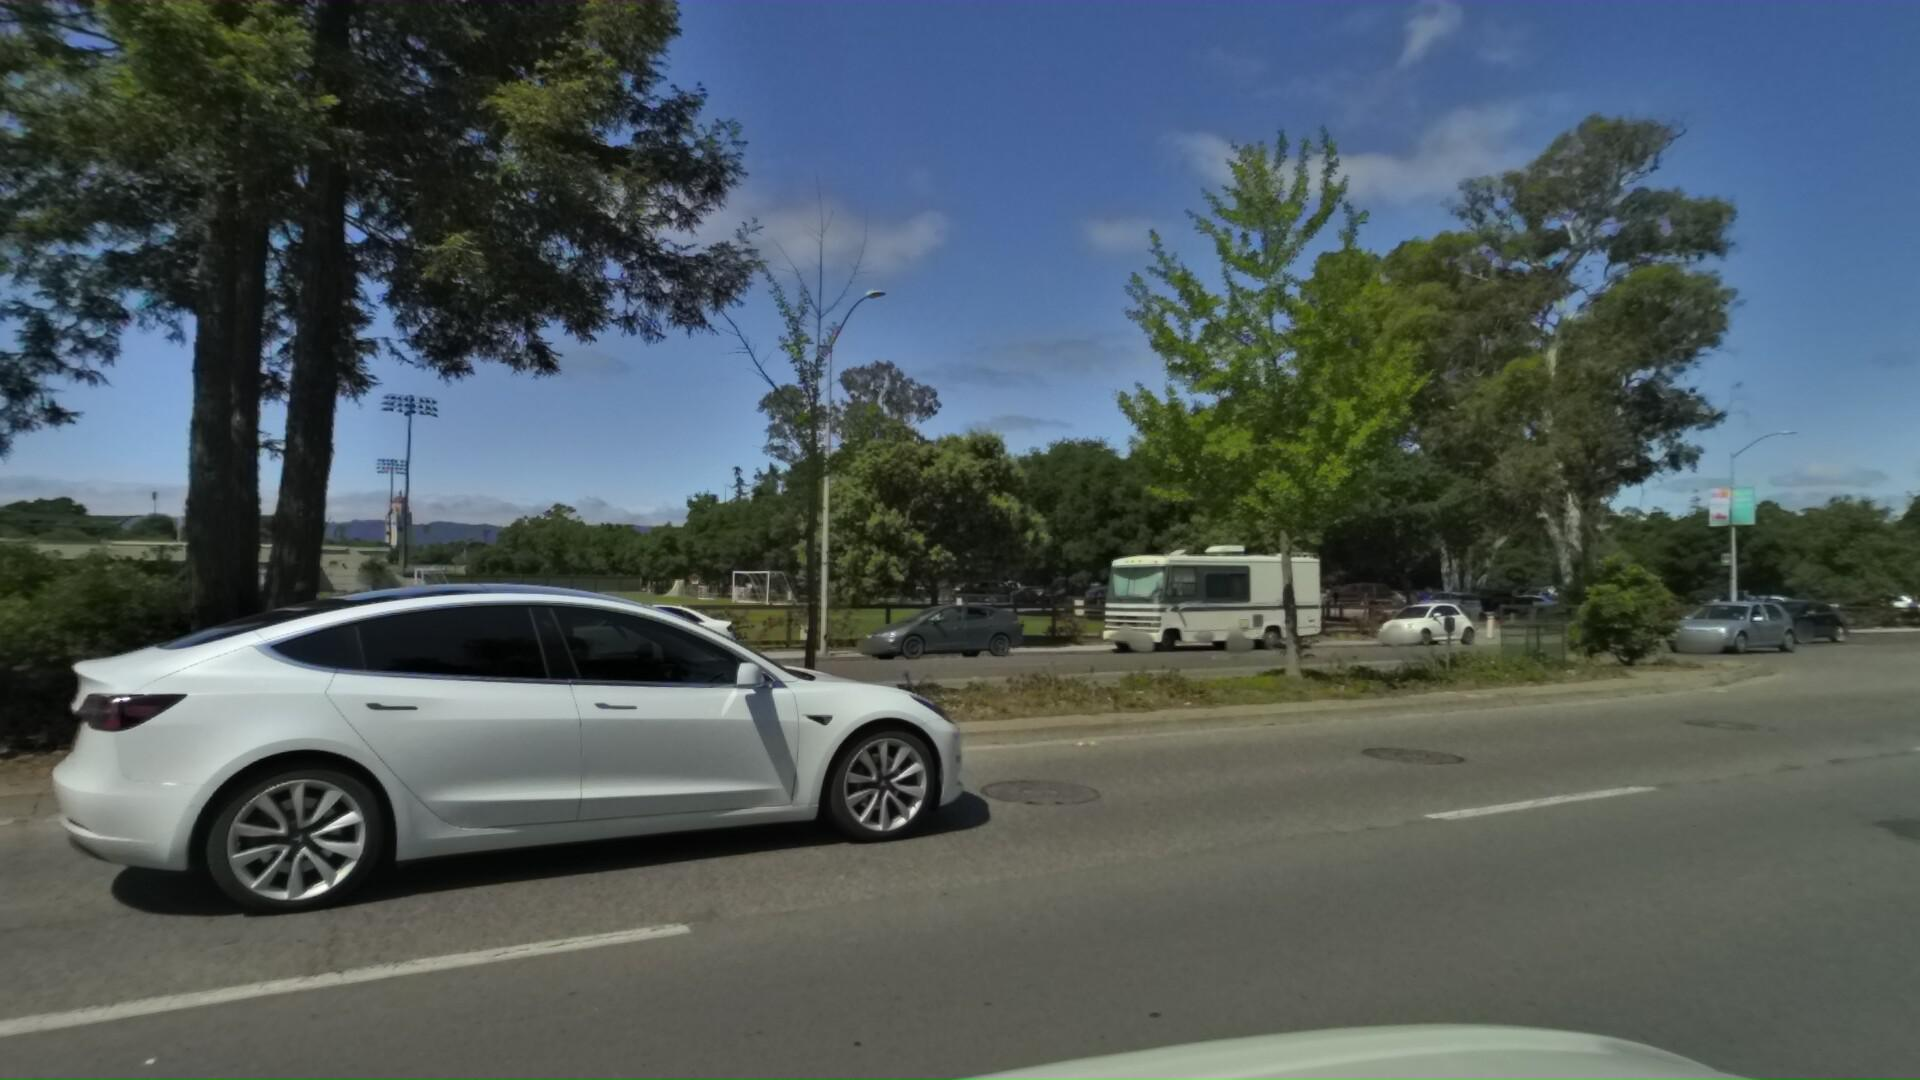car: (149, 585, 460, 692), (485, 593, 729, 676), (822, 593, 1021, 662), (1619, 601, 1780, 666), (1702, 596, 1826, 649), (1352, 592, 1469, 644)
other_vehicle: (1073, 531, 1319, 655)
